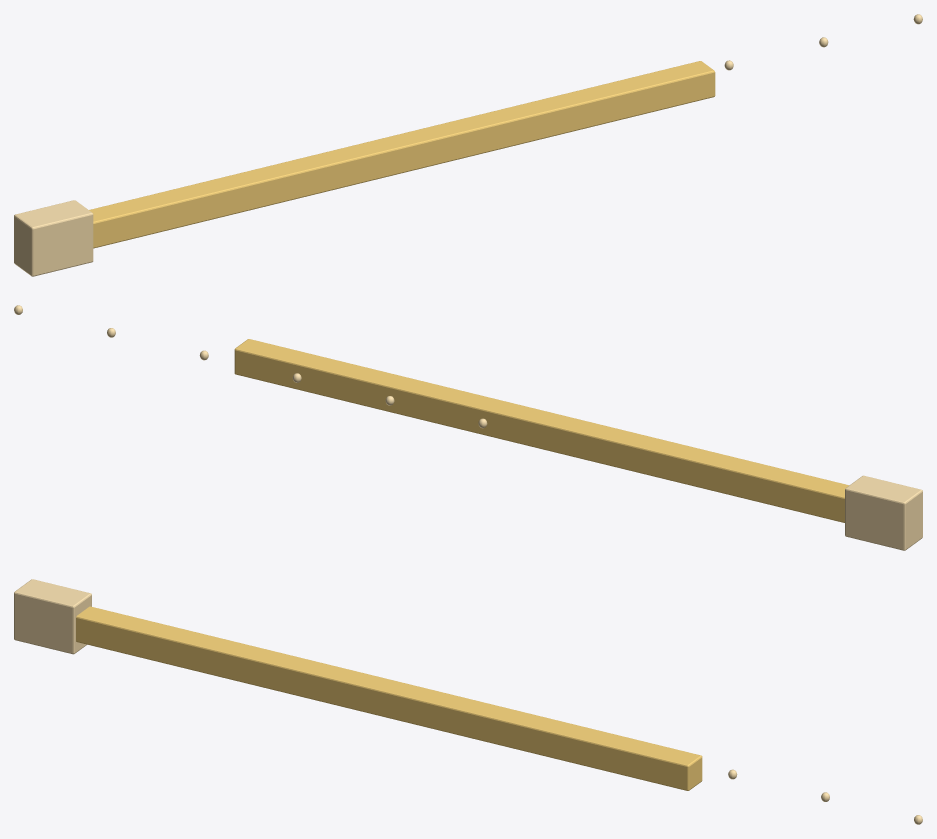
Rendered from VM-NIN-SH40741149.glb.
3 views of the same model, one above another, from view 1: azimuth 30°, elevation 25°; view 2: azimuth 150°, elevation 25°; view 3: azimuth 330°, elevation 25° (orthographic).
Visible parts, largest first — view 1: Cinturón con Tachuelas de Strass; view 2: Cinturón con Tachuelas de Strass; view 3: Cinturón con Tachuelas de Strass.
Boxes of the visible parts, x1=… form: Cinturón con Tachuelas de Strass: x1=14, y1=14, x2=922, y2=276; Cinturón con Tachuelas de Strass: x1=14, y1=305, x2=922, y2=550; Cinturón con Tachuelas de Strass: x1=14, y1=579, x2=922, y2=824.
Bounding box in the file's own units: 0.8047 × 0.0419 × 0.031.
